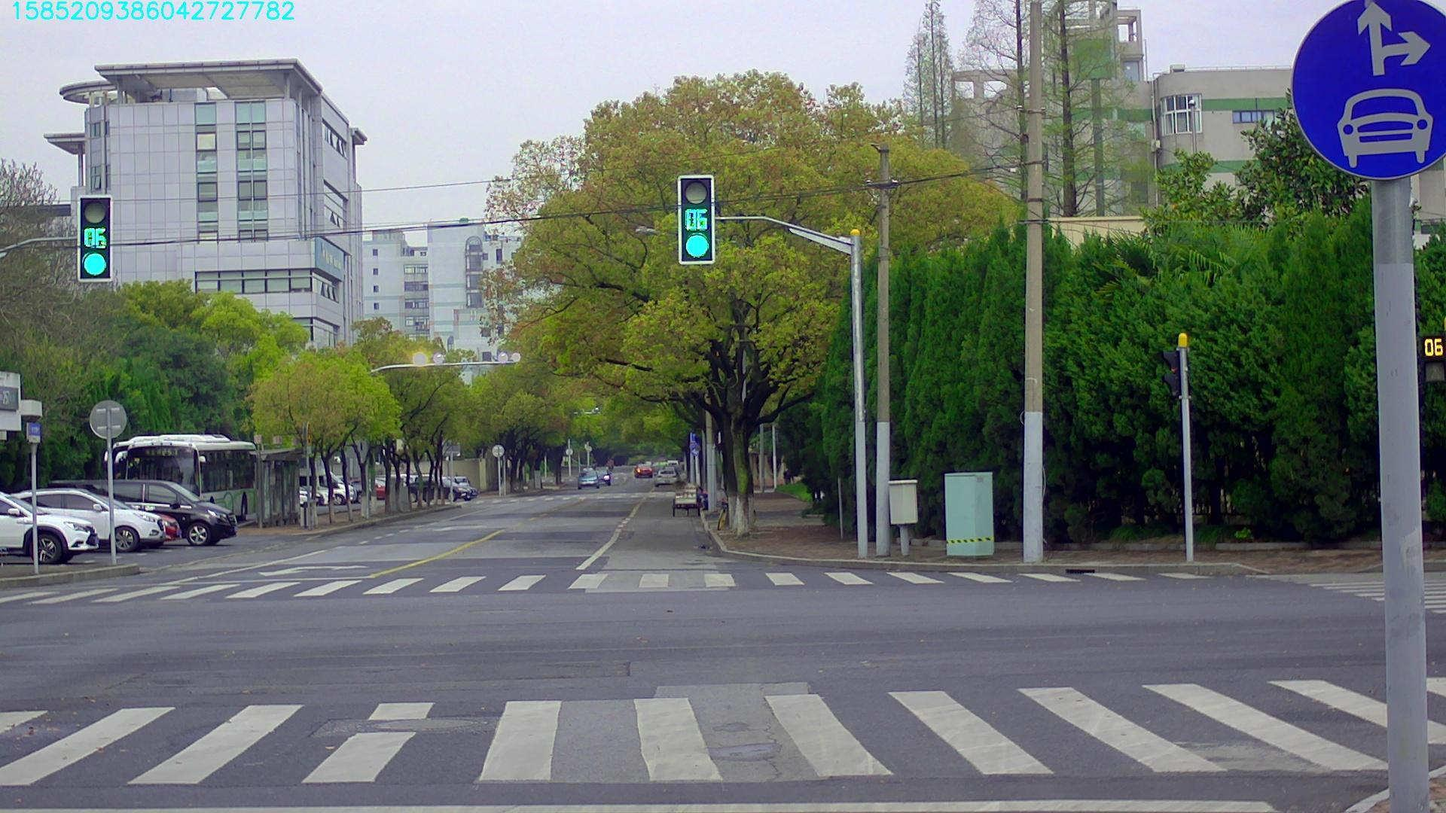green: (679, 176, 712, 262), (78, 196, 111, 281)
